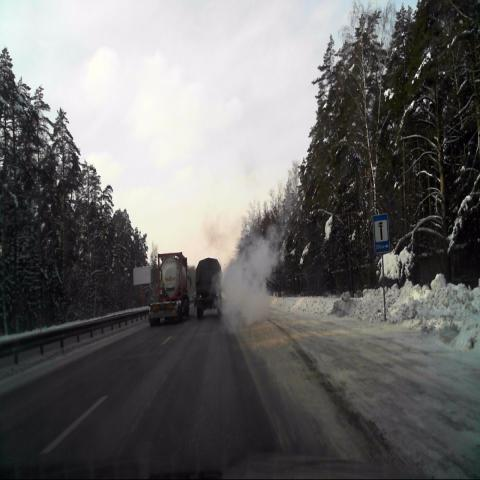7_4: (372, 214, 390, 253)
